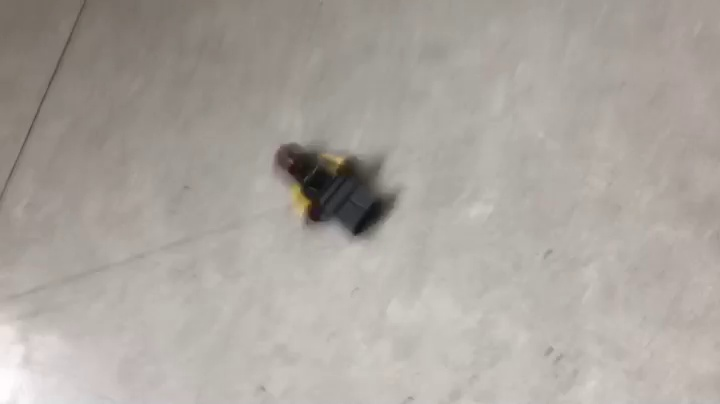people: (273, 141, 391, 237)
